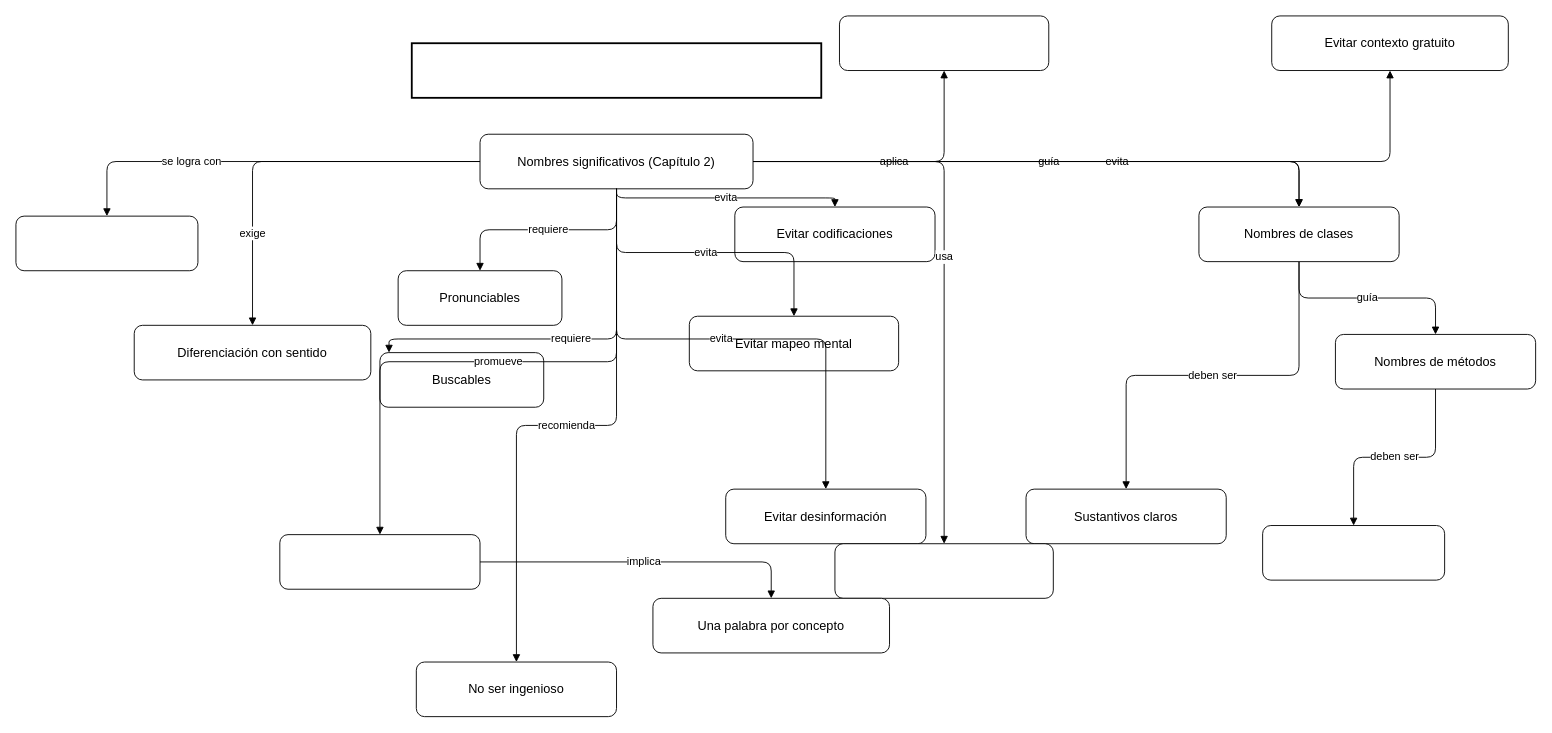
Some shapes in this 1552 by 733 pixel diagram are drawn without their labels. Here are the shapes that lost their labels. From the top down, the centre of each, then its label:
At (944,43): "Agregar contexto útil".
At (616,70): "Capítulo 2 — Nombres significativos".
At (106,243): "Revelando la intencion".
At (379,561): "Consistencia léxica".
At (943,570): "Vocabulario del dominio".
At (1353,552): "Verbos claros".
